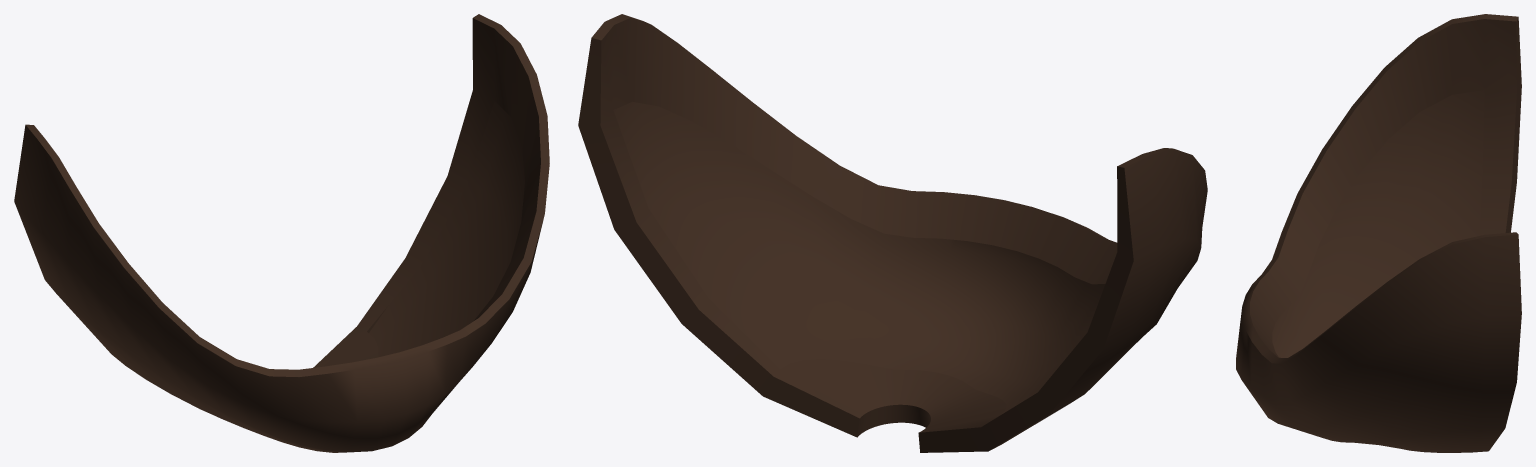
File: Char_Face_Beard.fbx
The picture shows the model from 3 angles, left to right: view 1: azimuth 30°, elevation 25°; view 2: azimuth 150°, elevation 25°; view 3: azimuth 270°, elevation 25°; orthographic projection. The views are drawn at different scales.
Visible parts, largest first — view 1: Beard; view 2: Beard; view 3: Beard.
Part boxes in pixels (box(x1,y1,x2,y2)): Beard: box(14, 14, 549, 452); Beard: box(578, 14, 1207, 452); Beard: box(1236, 14, 1521, 452).
Bounding box in the file's own units: 135 × 82.48 × 69.91.
